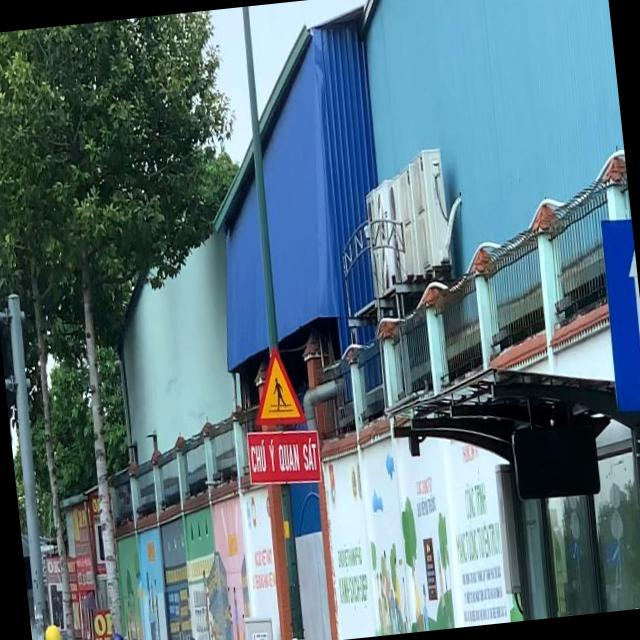W-224: (247, 343, 307, 431)
